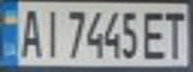4: (84, 7, 106, 60), (103, 7, 124, 60)
5: (118, 7, 142, 60)
7: (60, 6, 84, 60)
A: (15, 4, 45, 58)
E: (139, 7, 172, 61)
I: (39, 4, 63, 58)
T: (160, 7, 190, 60)
